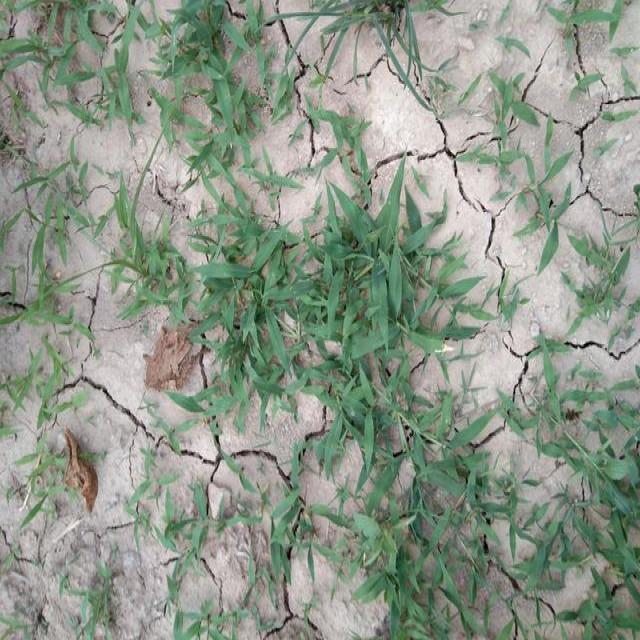weed: (337, 404, 503, 638), (302, 195, 466, 415), (550, 353, 639, 640), (202, 191, 296, 441), (158, 3, 264, 178), (23, 0, 136, 140), (484, 95, 572, 263), (318, 0, 447, 90)
